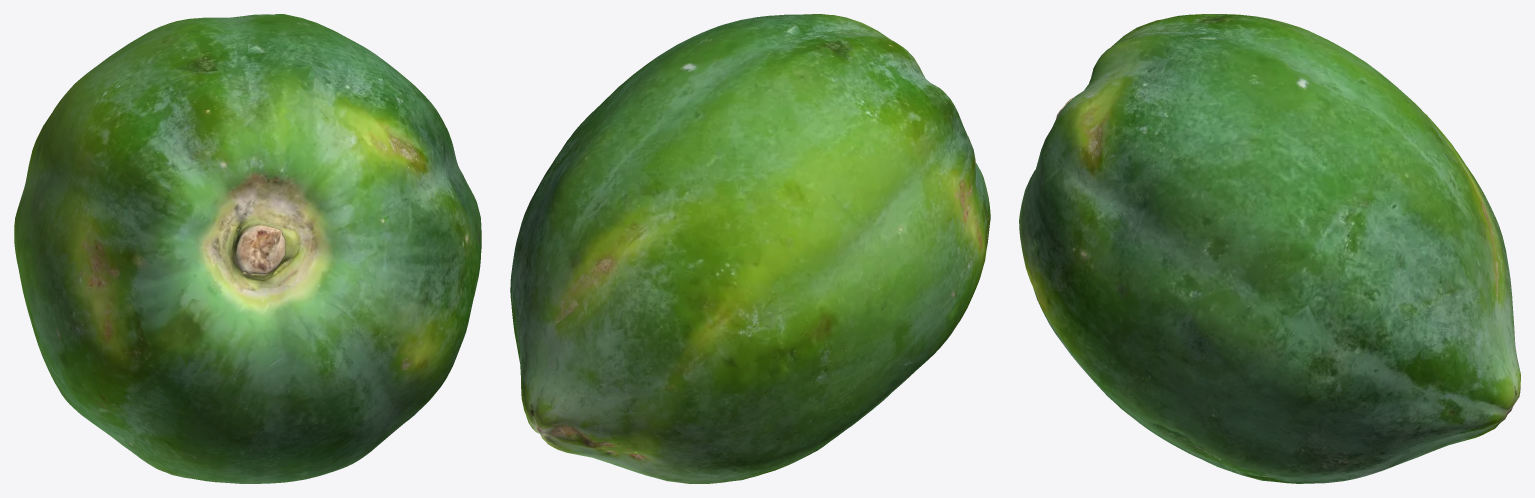
The model's file is papaya-v1-transformed-transformed.glb.
The picture shows the model from 3 angles, left to right: view 1: azimuth 30°, elevation 25°; view 2: azimuth 150°, elevation 25°; view 3: azimuth 270°, elevation 25°; orthographic projection. The views are drawn at different scales.
Parts seen in each view (by area): view 1: papaya; view 2: papaya; view 3: papaya.
Part boxes in pixels (x1,y1,x2,y2): papaya: [14, 14, 481, 483]; papaya: [510, 14, 990, 483]; papaya: [1019, 14, 1520, 483].
Bounding box in the file's own units: 2.76 × 2.81 × 3.15.
1 material, 1 textured.
